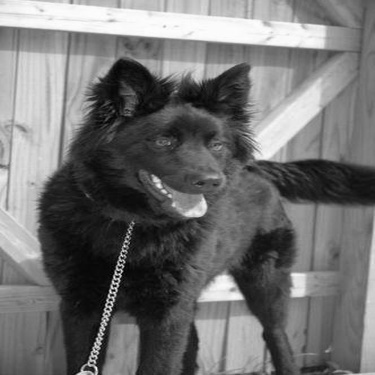dog: (30, 51, 372, 372)
